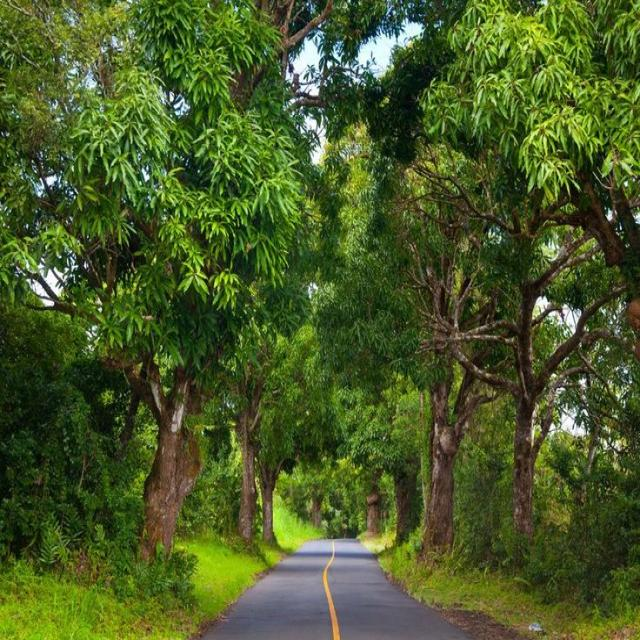Mango-Tree: (25, 39, 269, 540), (413, 8, 640, 306)
